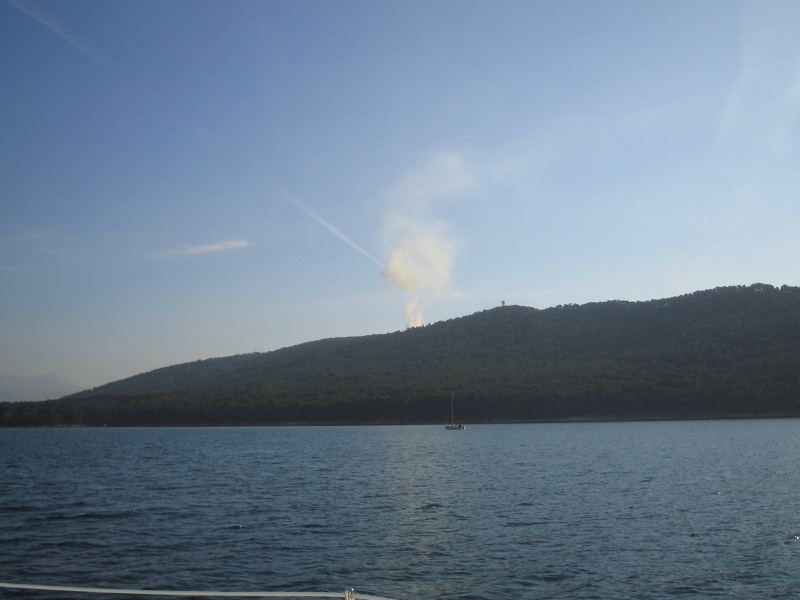smoke: (377, 203, 446, 329)
